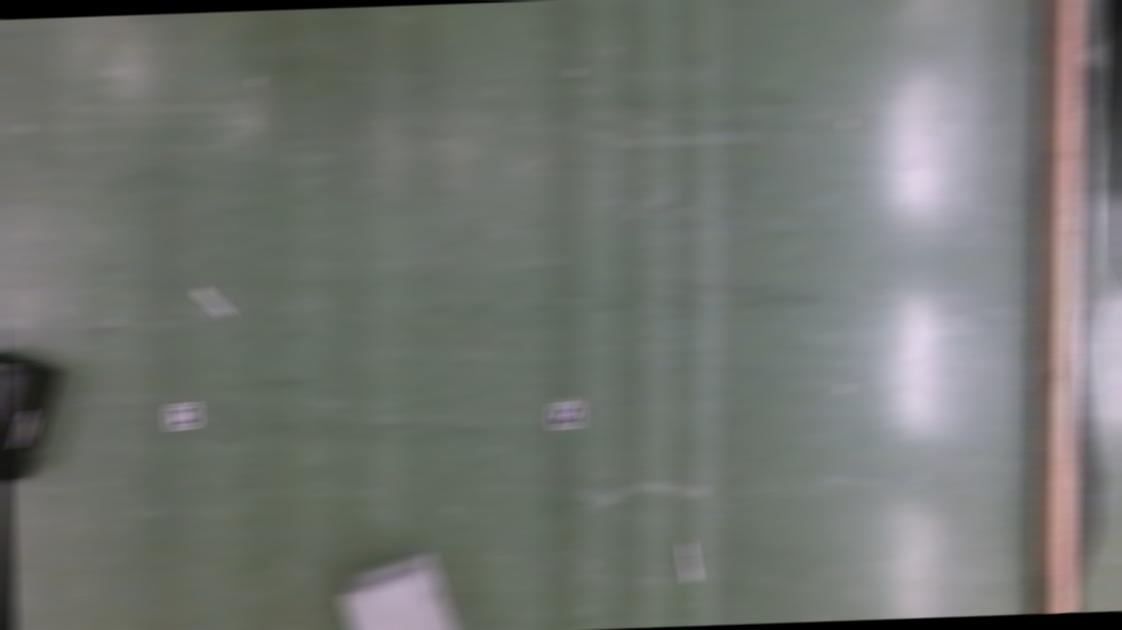probes: (196, 284, 232, 318), (678, 538, 697, 582)
rako: (336, 548, 459, 630), (0, 345, 65, 489)
